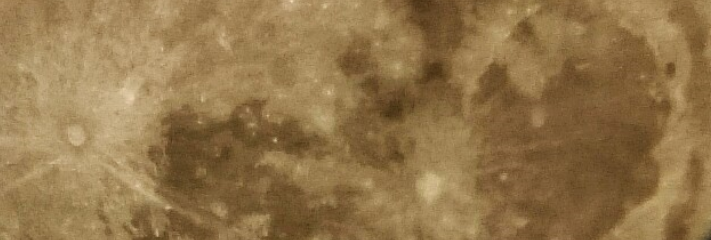crater: (32, 82, 151, 214), (401, 125, 485, 233), (519, 85, 557, 139), (356, 172, 383, 188), (322, 79, 340, 100), (269, 132, 285, 148)
